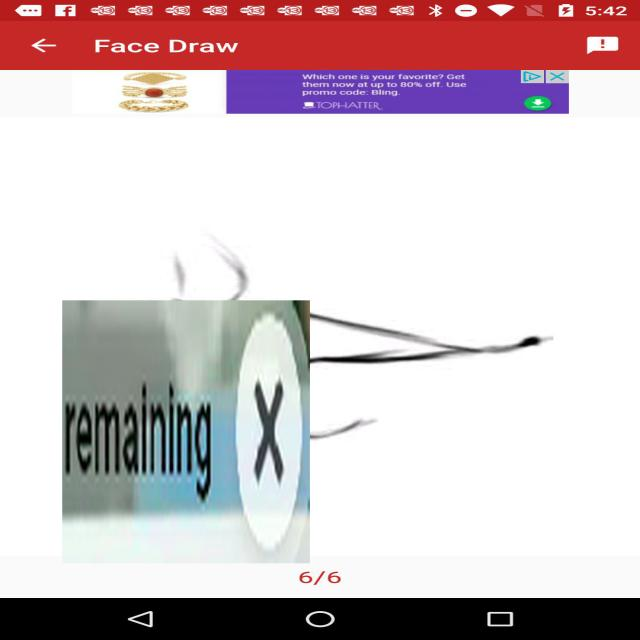misdirection: (62, 301, 310, 564)
